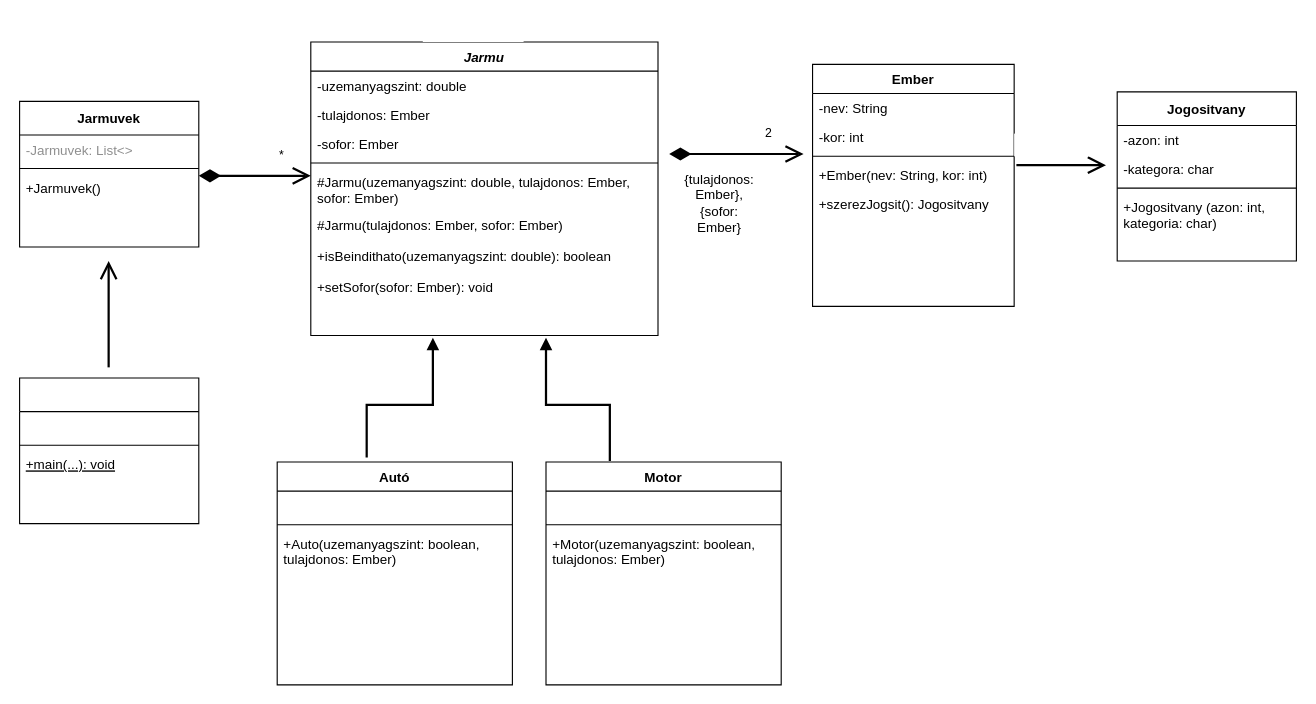
This 1316x704 diagram has some shape labels left out. The shapes that lost their labels are listed below. From the top down, each one's box as (x1, y1, x2, y2) in pixels, then its label:
(422, 19, 523, 41): <<abstract>>
(1014, 133, 1103, 156): szerzi
(18, 377, 199, 524): Program
